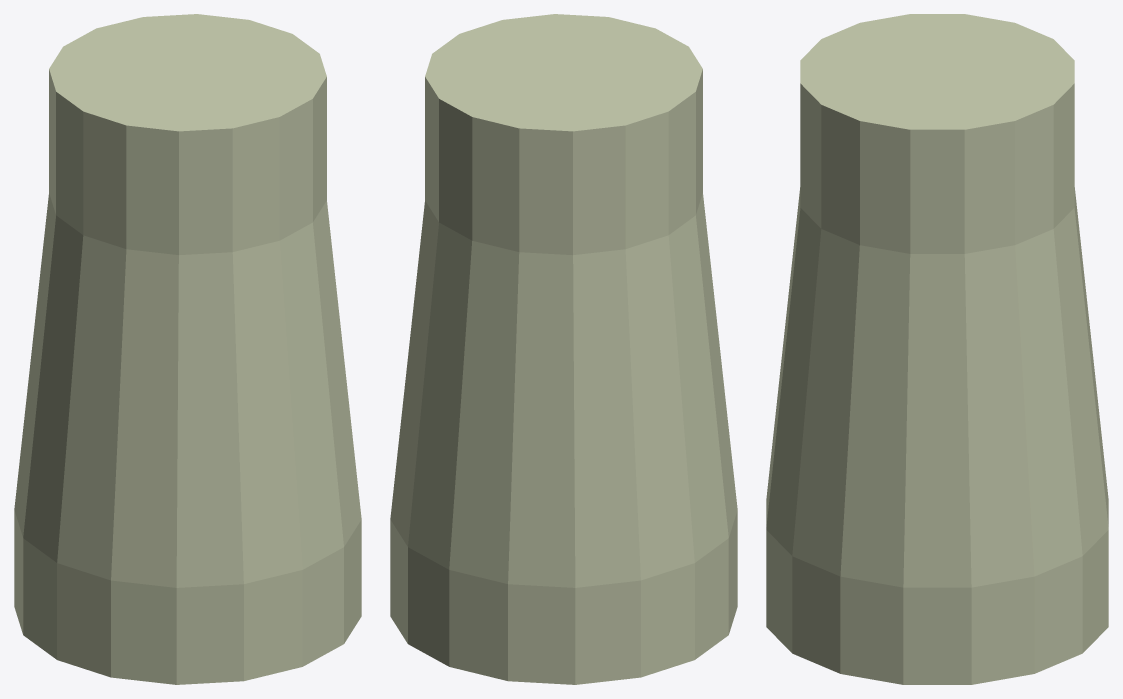
Rendered from LLV_A_LFO_1_Collider.obj.
3 renders of one model, left to right at view 1: azimuth 30°, elevation 25°; view 2: azimuth 150°, elevation 25°; view 3: azimuth 270°, elevation 25°, orthographic.
Visible parts, largest first — view 1: LLV_A_LFO_1_Collider2, LLV_A_LFO_1_Collider1; view 2: LLV_A_LFO_1_Collider2, LLV_A_LFO_1_Collider1; view 3: LLV_A_LFO_1_Collider2, LLV_A_LFO_1_Collider1.
Boxes of the visible parts, left/top/right/bottom form: LLV_A_LFO_1_Collider2: left=14, top=193, right=361, bottom=684; LLV_A_LFO_1_Collider1: left=49, top=14, right=326, bottom=255; LLV_A_LFO_1_Collider2: left=390, top=193, right=737, bottom=684; LLV_A_LFO_1_Collider1: left=425, top=14, right=702, bottom=255; LLV_A_LFO_1_Collider2: left=766, top=187, right=1108, bottom=684; LLV_A_LFO_1_Collider1: left=800, top=14, right=1074, bottom=253.
Bounding box in the file's own units: 6.25 × 10.89 × 6.25.
